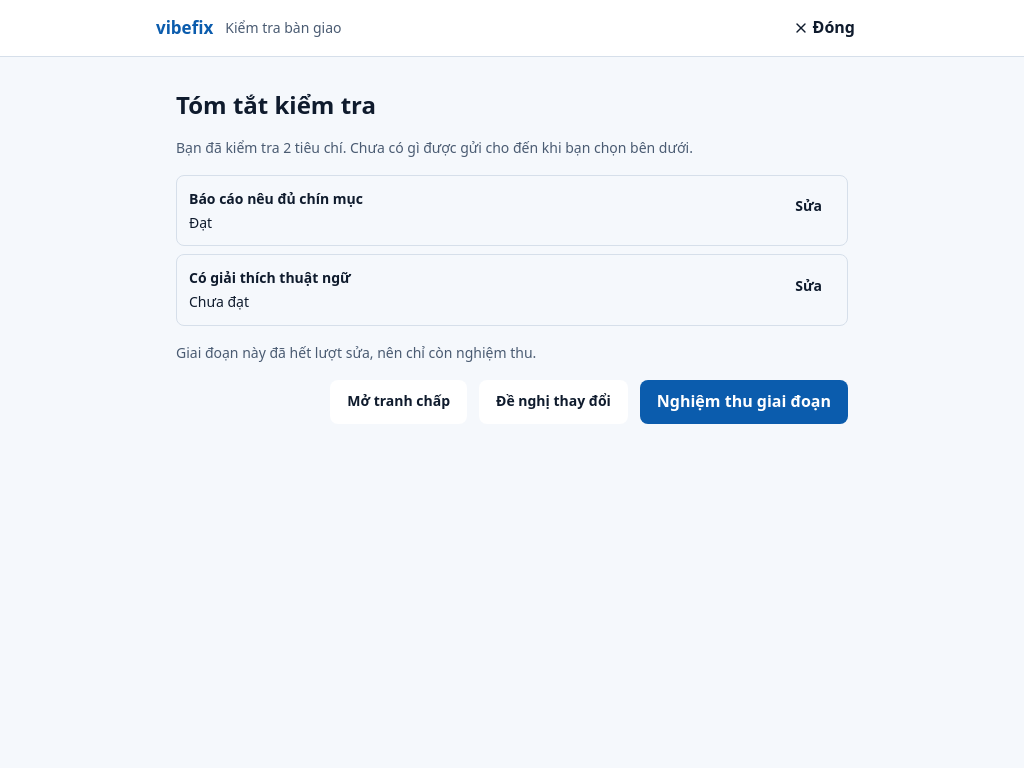
Test: JOB-5 guided check (FR-33, FR-34, UX-DR33) › offers only acceptance when no Revision Round is left
The width and height of the screenshot is (1024, 768).
Expected: the text "Giai đoạn này đã hết lượt sửa, nên chỉ còn nghiệm thu." is shown, [176,343,536,362]
Expected: the button "Nghiệm thu giai đoạn" is shown, [640,380,848,424]
What coordinates should you click on to do the following:
click the button "Sửa" in the row of "Có giải thích thuật ngữ"
I would click on:
 (809, 286)
Its box is [782,268,835,304].
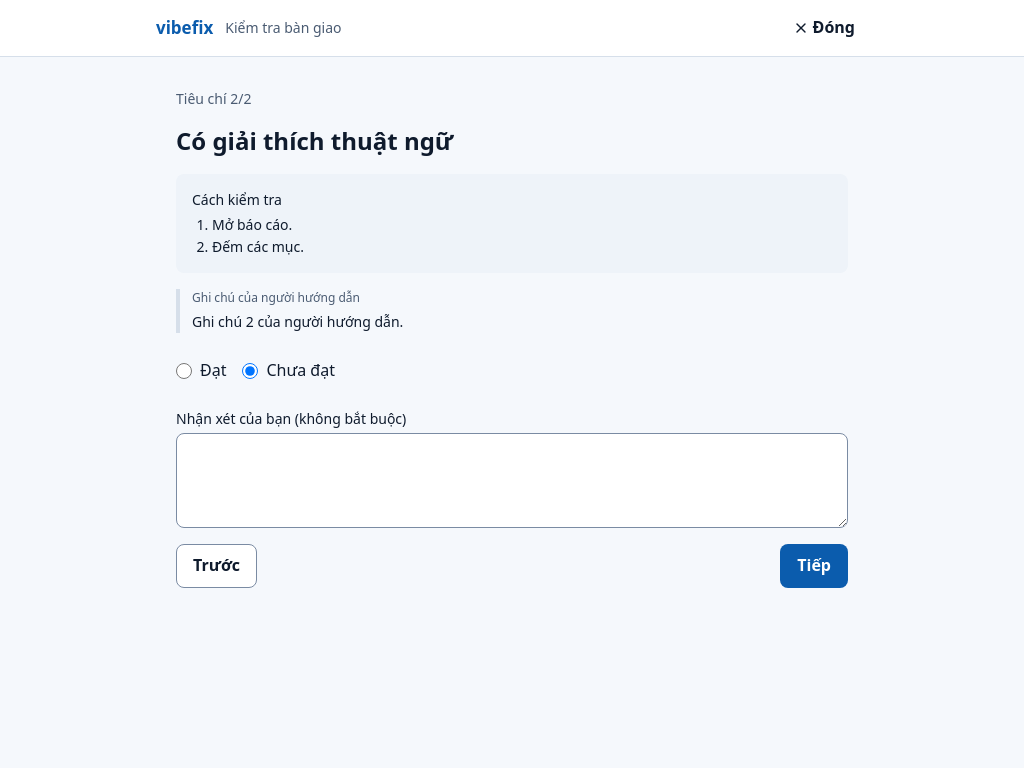
Now the text "Tiêu chí 2/2" is shown, box [176,89,251,108]
